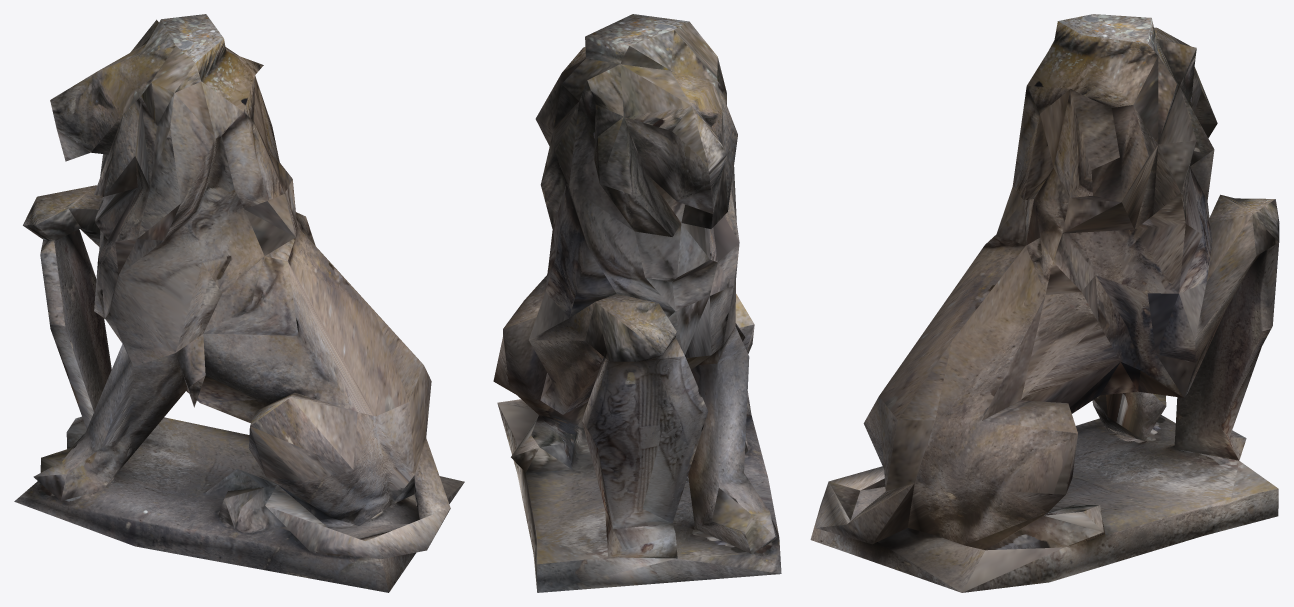
The model's file is lion_2_percent_of_triangles.obj.
The picture shows the model from 3 angles, left to right: view 1: azimuth 30°, elevation 25°; view 2: azimuth 150°, elevation 25°; view 3: azimuth 270°, elevation 25°; orthographic projection. The views are drawn at different scales.
Visible parts, largest first — view 1: mesh_0.001; view 2: mesh_0.001; view 3: mesh_0.001.
Boxes of the visible parts, x1,y1,x2,y2 form: mesh_0.001: [14, 14, 464, 592]; mesh_0.001: [493, 14, 781, 592]; mesh_0.001: [810, 14, 1279, 592].
Size of the model in its own units: 15.88 by 19.98 by 17.35.
1 material, 1 textured.
